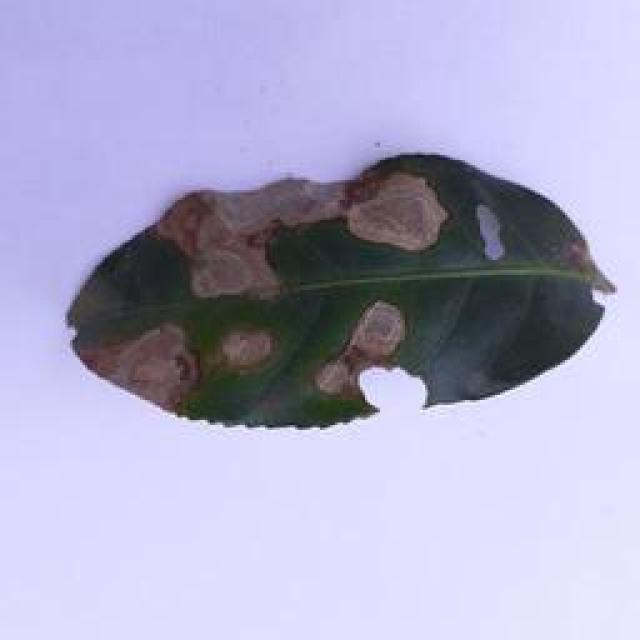Gray Blight: (62, 148, 616, 435)
